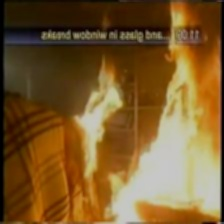fire: (89, 1, 219, 223)
